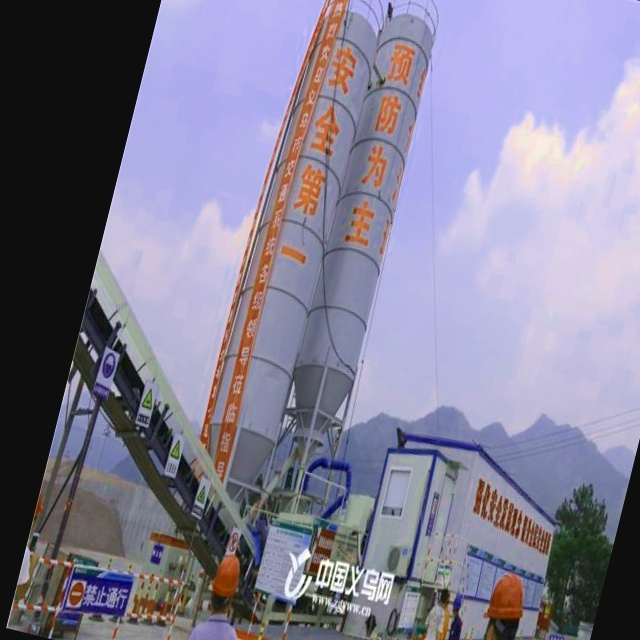Con_Casco: (476, 568, 533, 640), (206, 551, 247, 618)
